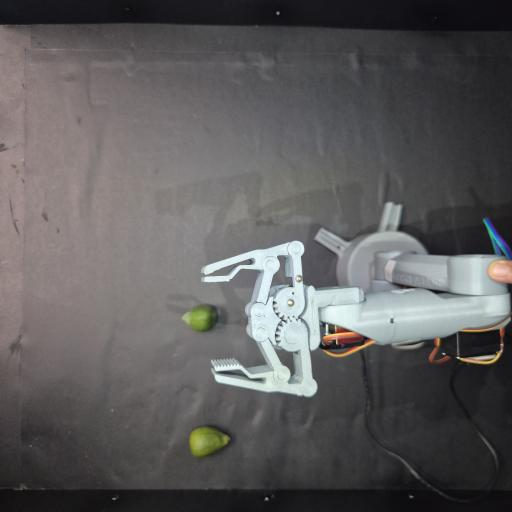higo: (190, 426, 230, 457), (182, 305, 217, 331)
